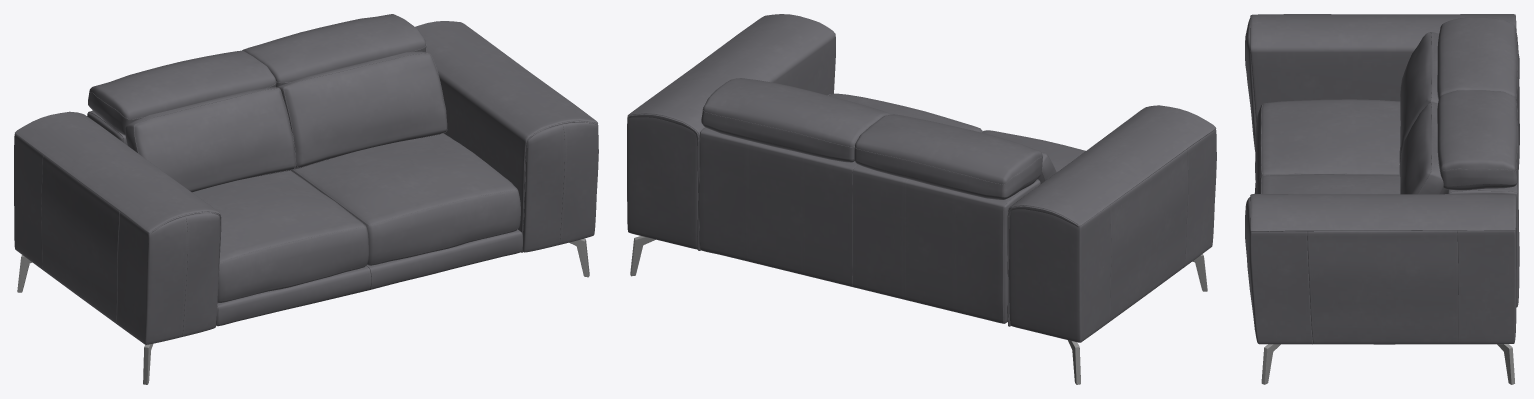
The model's file is sofa_B07HPNB4HQ.glb.
The picture shows the model from 3 angles, left to right: view 1: azimuth 30°, elevation 25°; view 2: azimuth 150°, elevation 25°; view 3: azimuth 270°, elevation 25°; orthographic projection. The views are drawn at different scales.
Parts seen in each view (by area): view 1: RootNode; view 2: RootNode; view 3: RootNode.
Part boxes in pixels (left/top/right/bottom): RootNode: left=14, top=14, right=598, bottom=384; RootNode: left=627, top=14, right=1216, bottom=384; RootNode: left=1245, top=14, right=1519, bottom=384.
Bounding box in the file's own units: 1.89 × 0.7792 × 1.
1 material, 1 textured.
